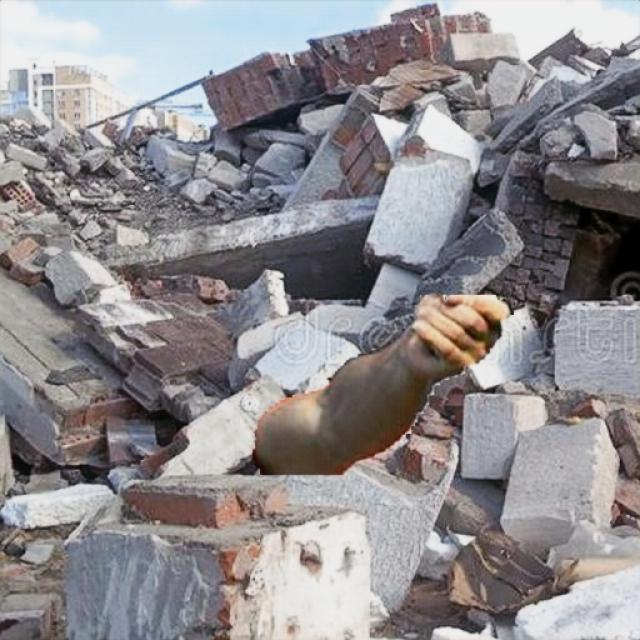Person in Rubble: (252, 295, 512, 474)
